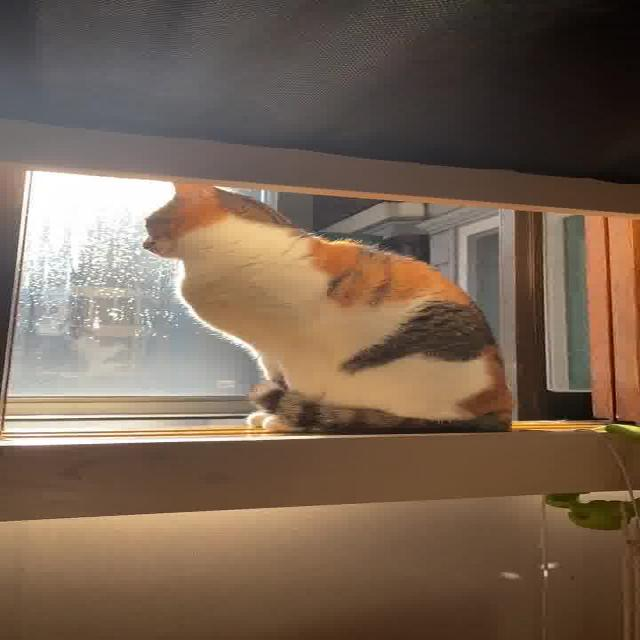cat: (95, 168, 540, 452)
